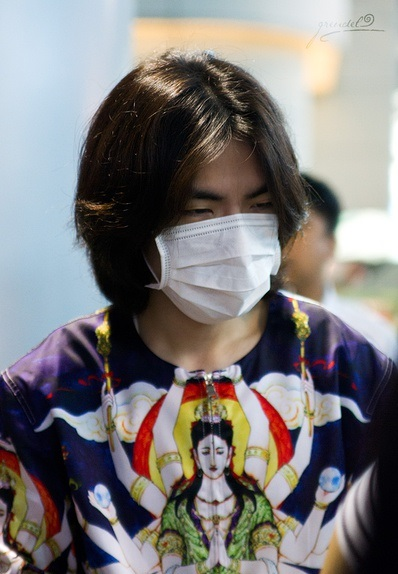face_mask: (157, 151, 282, 325), (196, 433, 228, 479)
